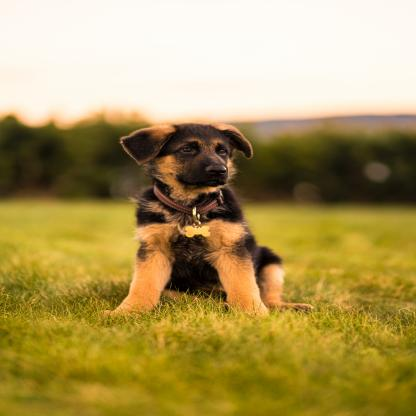german shepherd: (106, 122, 314, 319)
